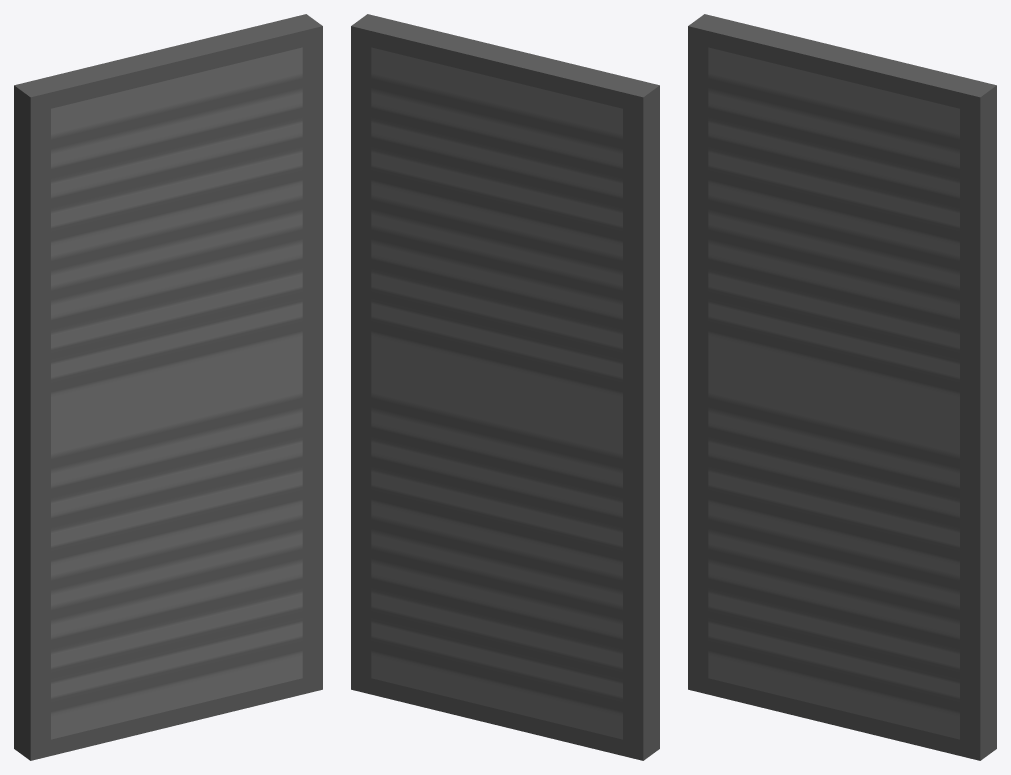
Rendered from SM_Bld_Hangar_Door_Small_02.fbx.
3 views of the same model, side by side, from view 1: azimuth 30°, elevation 25°; view 2: azimuth 150°, elevation 25°; view 3: azimuth 330°, elevation 25° (orthographic).
Parts seen in each view (by area): view 1: SM_Bld_Hangar_Door_Small_02; view 2: SM_Bld_Hangar_Door_Small_02; view 3: SM_Bld_Hangar_Door_Small_02.
Boxes of the visible parts, box(x1,y1,x2,y2) form: SM_Bld_Hangar_Door_Small_02: box(14, 14, 322, 760); SM_Bld_Hangar_Door_Small_02: box(351, 14, 659, 760); SM_Bld_Hangar_Door_Small_02: box(688, 14, 996, 760).
Bounding box in the file's own units: 103 × 222 × 10.05.
